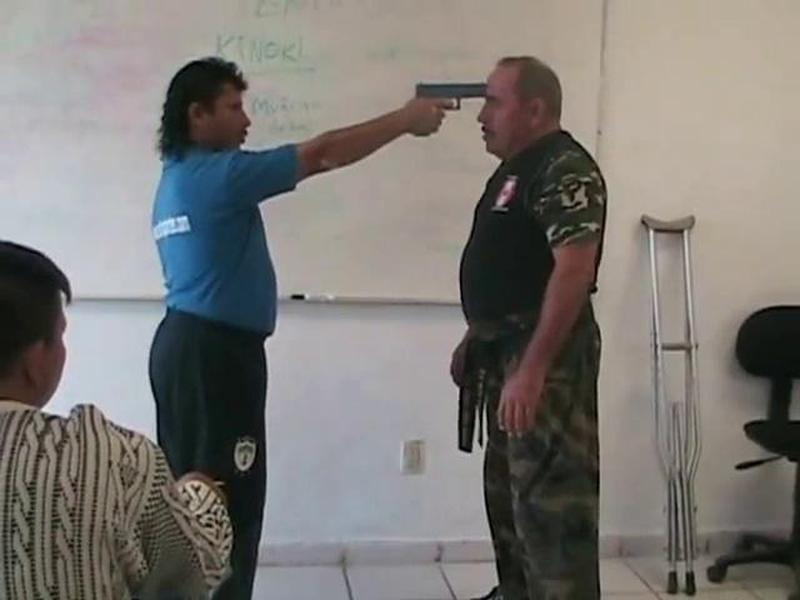Pistola: (405, 75, 503, 134)
